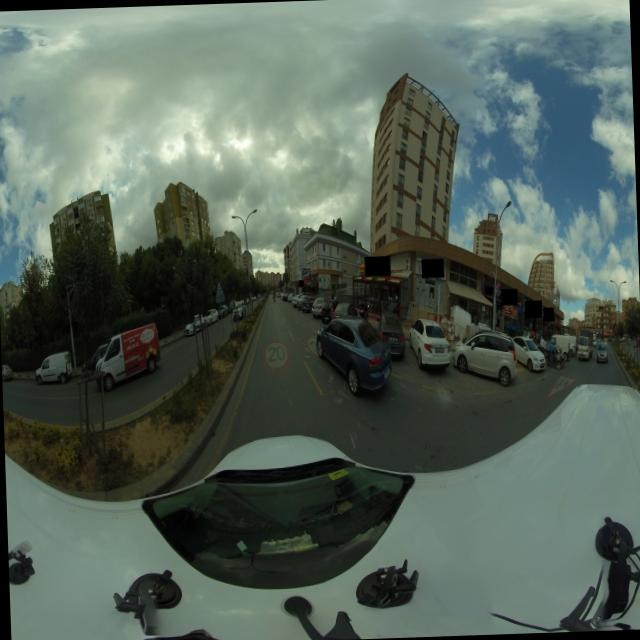SignStore: (365, 256, 390, 275), (421, 259, 444, 277), (524, 300, 542, 317), (501, 289, 517, 305), (542, 307, 554, 321), (484, 287, 493, 294), (299, 280, 303, 286)
